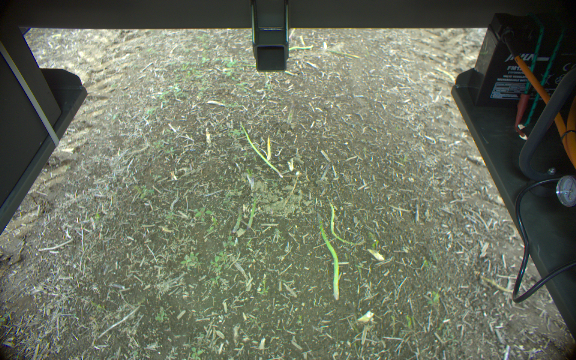aspa: (240, 123, 283, 178), (315, 213, 340, 300), (241, 191, 257, 229), (230, 206, 242, 232)
